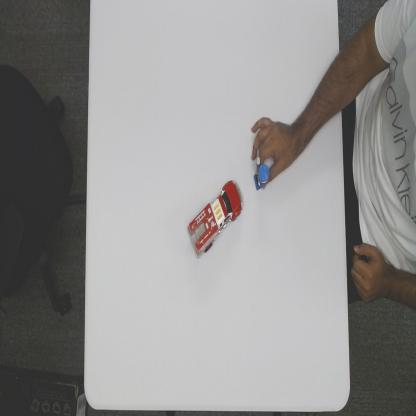Arm: (294, 54, 343, 151)
Firetruck: (188, 179, 244, 258)
Hand: (250, 116, 296, 177)
